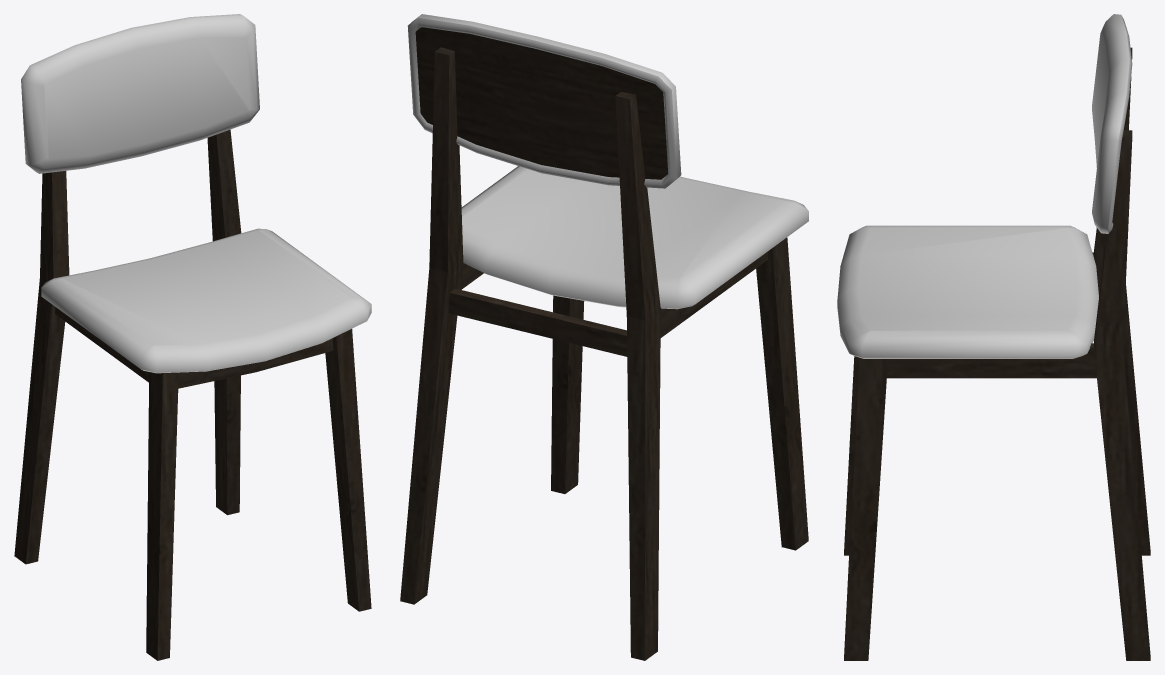
Rendered from chair_mp_4_2.fbx.
3 renders of one model, left to right at view 1: azimuth 30°, elevation 25°; view 2: azimuth 150°, elevation 25°; view 3: azimuth 270°, elevation 25°, orthographic. The views are drawn at different scales.
Parts seen in each view (by area): view 1: chair_mp_4_2; view 2: chair_mp_4_2; view 3: chair_mp_4_2.
Boxes of the visible parts, x1,y1,x2,y2 form: chair_mp_4_2: [14, 14, 371, 660]; chair_mp_4_2: [400, 14, 808, 660]; chair_mp_4_2: [837, 14, 1150, 660].
Bounding box in the file's own units: 0.4763 × 1.01 × 0.5226.
